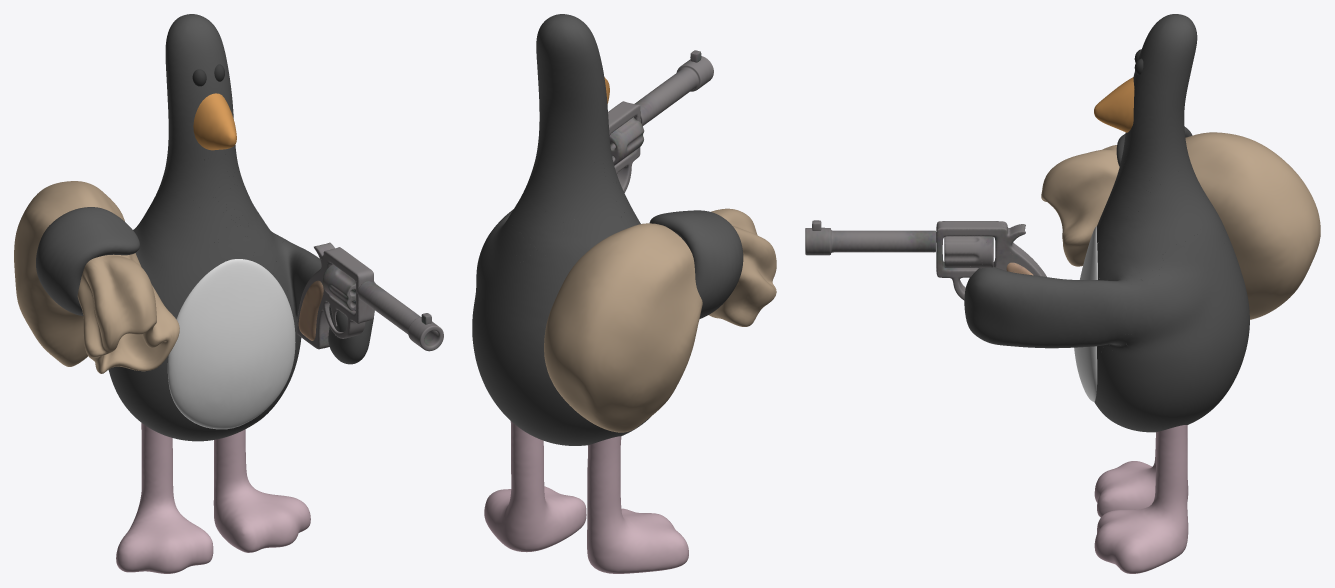
Rendered from feathers_mcgraw.glb.
3 views of the same model, side by side, from view 1: azimuth 30°, elevation 25°; view 2: azimuth 150°, elevation 25°; view 3: azimuth 270°, elevation 25° (orthographic). The views are drawn at different scales.
Visible parts, largest first — view 1: Object_3; view 2: Object_3; view 3: Object_3.
Part boxes in pixels (<box>): Object_3: <box>14,14,443,573</box>; Object_3: <box>472,14,776,573</box>; Object_3: <box>805,14,1320,573</box>.
Size of the model in its own units: 0.4014 by 0.7901 by 0.7159.
